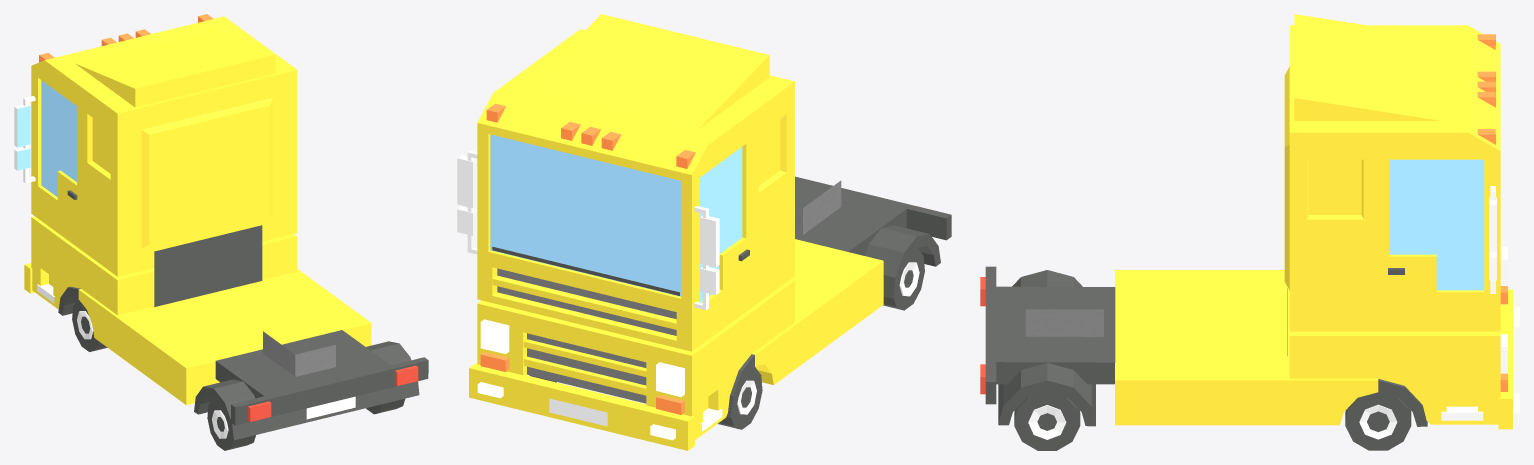
Rendered from transport_truck.005.glb.
3 renders of one model, left to right at view 1: azimuth 30°, elevation 25°; view 2: azimuth 150°, elevation 25°; view 3: azimuth 270°, elevation 25°, orthographic. The views are drawn at different scales.
Visible parts, largest first — view 1: transport_truck.005(Clone); view 2: transport_truck.005(Clone); view 3: transport_truck.005(Clone).
Boxes of the visible parts, <box> form: transport_truck.005(Clone): <box>14,14,428,450</box>; transport_truck.005(Clone): <box>457,14,951,450</box>; transport_truck.005(Clone): <box>980,14,1519,450</box>.
Size of the model in its own units: 2.09 by 2.59 by 3.68.
Materials: 1 (1 with a texture image).
